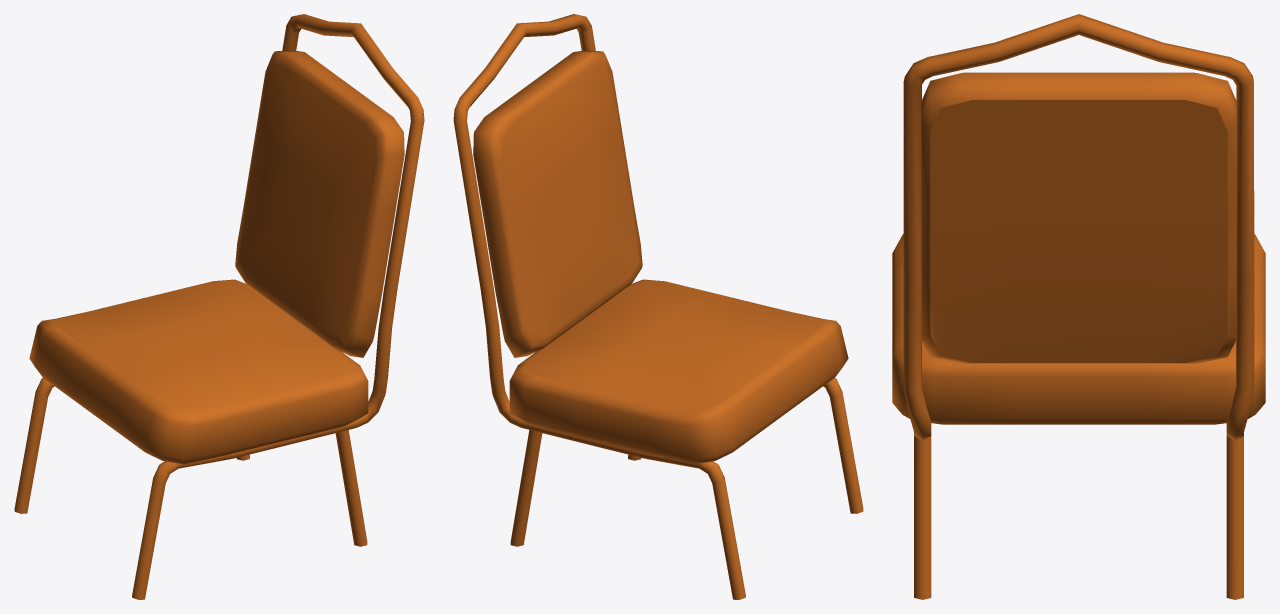
File: vagon chair lod1.FBX
3 renders of one model, left to right at view 1: azimuth 30°, elevation 25°; view 2: azimuth 150°, elevation 25°; view 3: azimuth 270°, elevation 25°, orthographic. The views are drawn at different scales.
Parts seen in each view (by area): view 1: Box235; view 2: Box235; view 3: Box235.
Part boxes in pixels (<box>): Box235: <box>14,14,424,599</box>; Box235: <box>453,14,863,599</box>; Box235: <box>892,14,1265,599</box>.
Size of the model in its own units: 0.8972 by 1.37 by 0.75.
